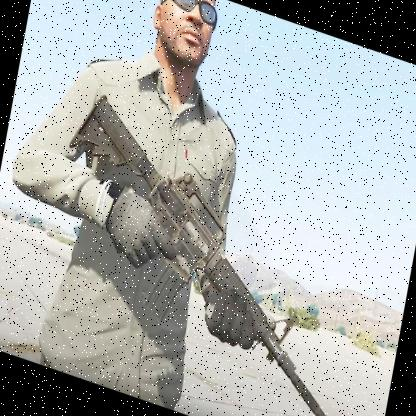rifle: (34, 82, 391, 416)
